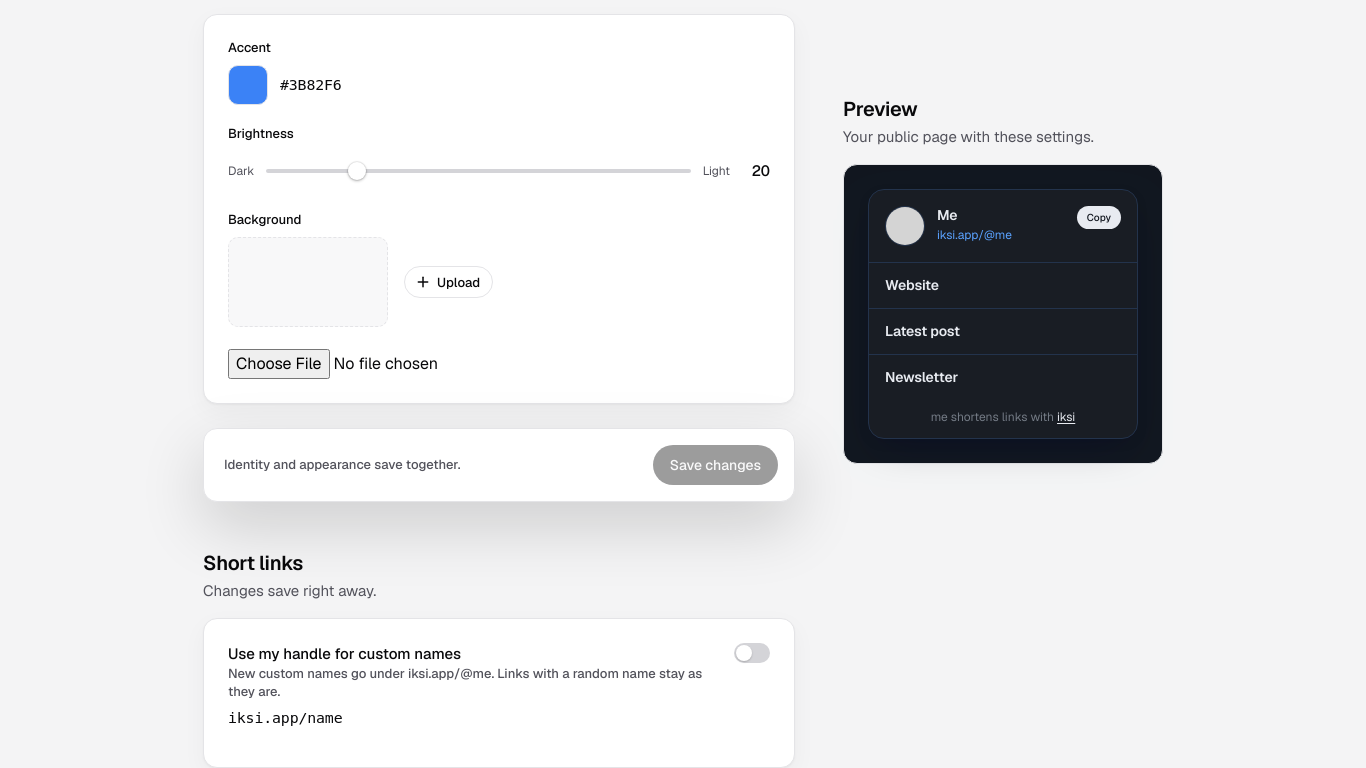
Test: use my handle for custom names › goes back when the save fails
This screenshot has width=1366, height=768.
(page scrolled)
Click the switch named "Use my handle for custom names" at {"x": 752, "y": 653}, box [734, 643, 770, 663]
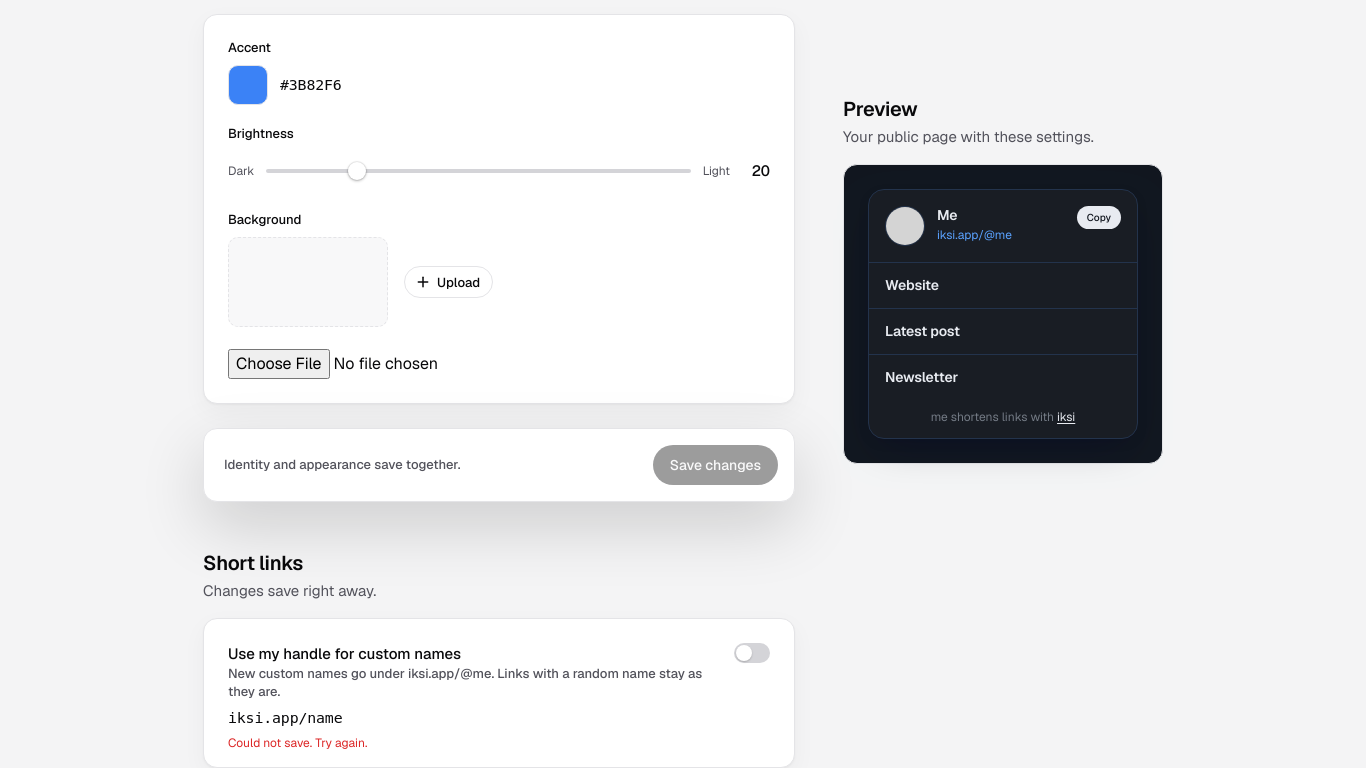
Expected: the text "Could not save. Try again." is shown, [228, 735, 368, 751]
